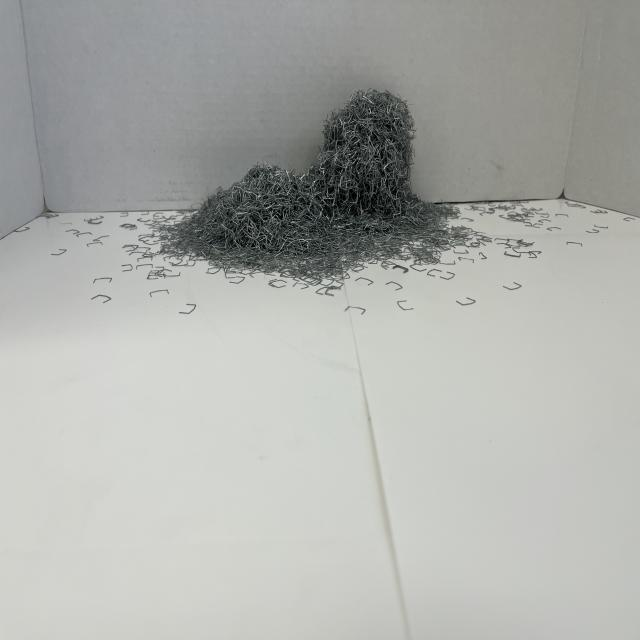staples: (160, 85, 458, 264)
